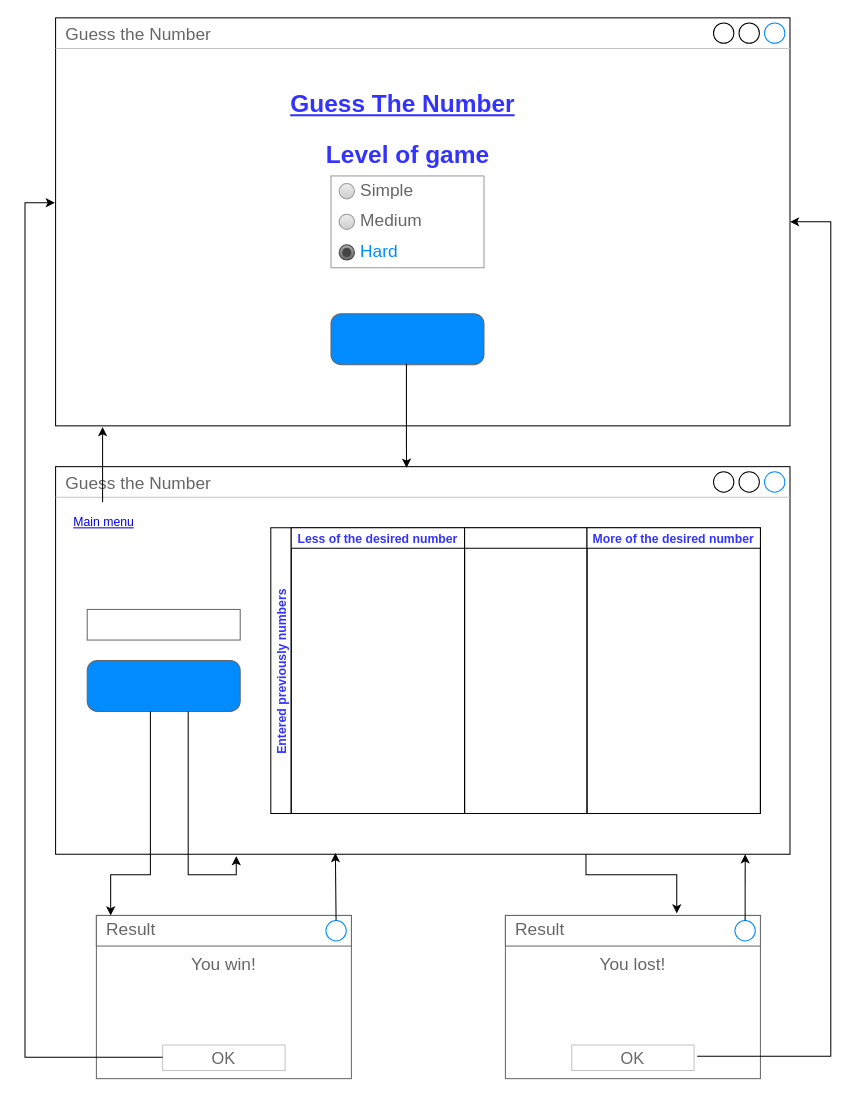
The diagram is 857 pixels wide and 1097 high, and some of its shapes have lost their labels. Each missing label, with the centre of its shape:
"Enter the number..." belongs at pixel 163 624.
"Guess" belongs at pixel 163 685.
"Start Game" belongs at pixel 407 339.
"The desired number" belongs at pixel 525 670.
